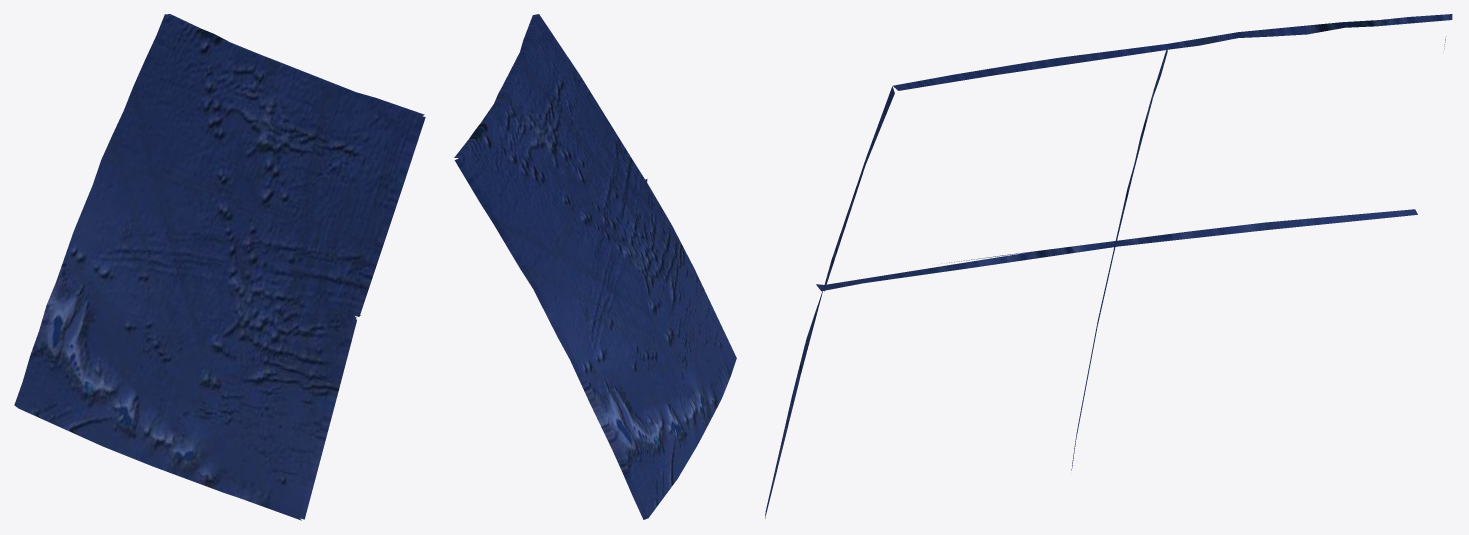
The picture shows the model from 3 angles, left to right: view 1: azimuth 30°, elevation 25°; view 2: azimuth 150°, elevation 25°; view 3: azimuth 270°, elevation 25°; orthographic projection. The views are drawn at different scales.
Bounding box in the file's own units: 903933 × 1116316 × 1234919.
Materials: 1 (1 with a texture image).
